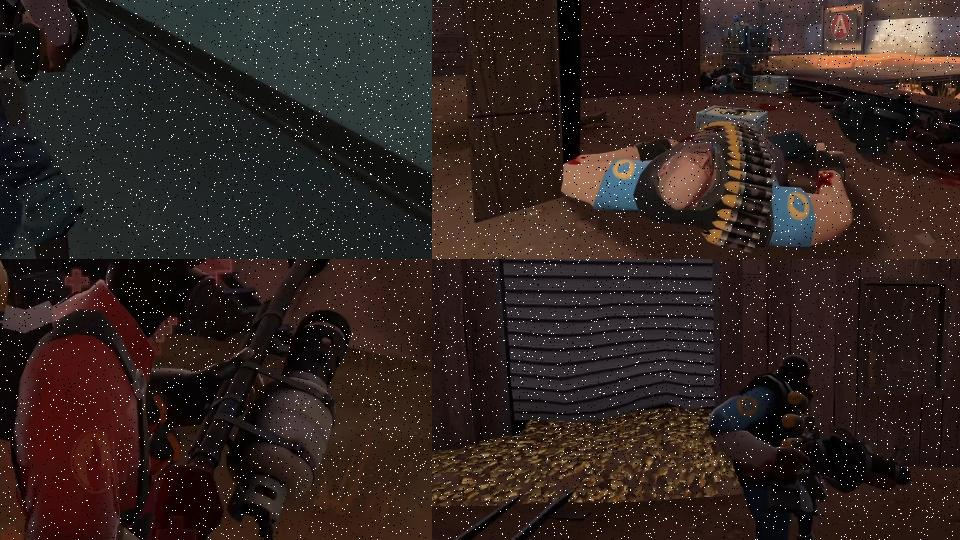Enemy: (0, 259, 368, 540), (559, 119, 857, 253), (705, 351, 913, 540), (0, 0, 92, 259), (702, 66, 744, 92)
